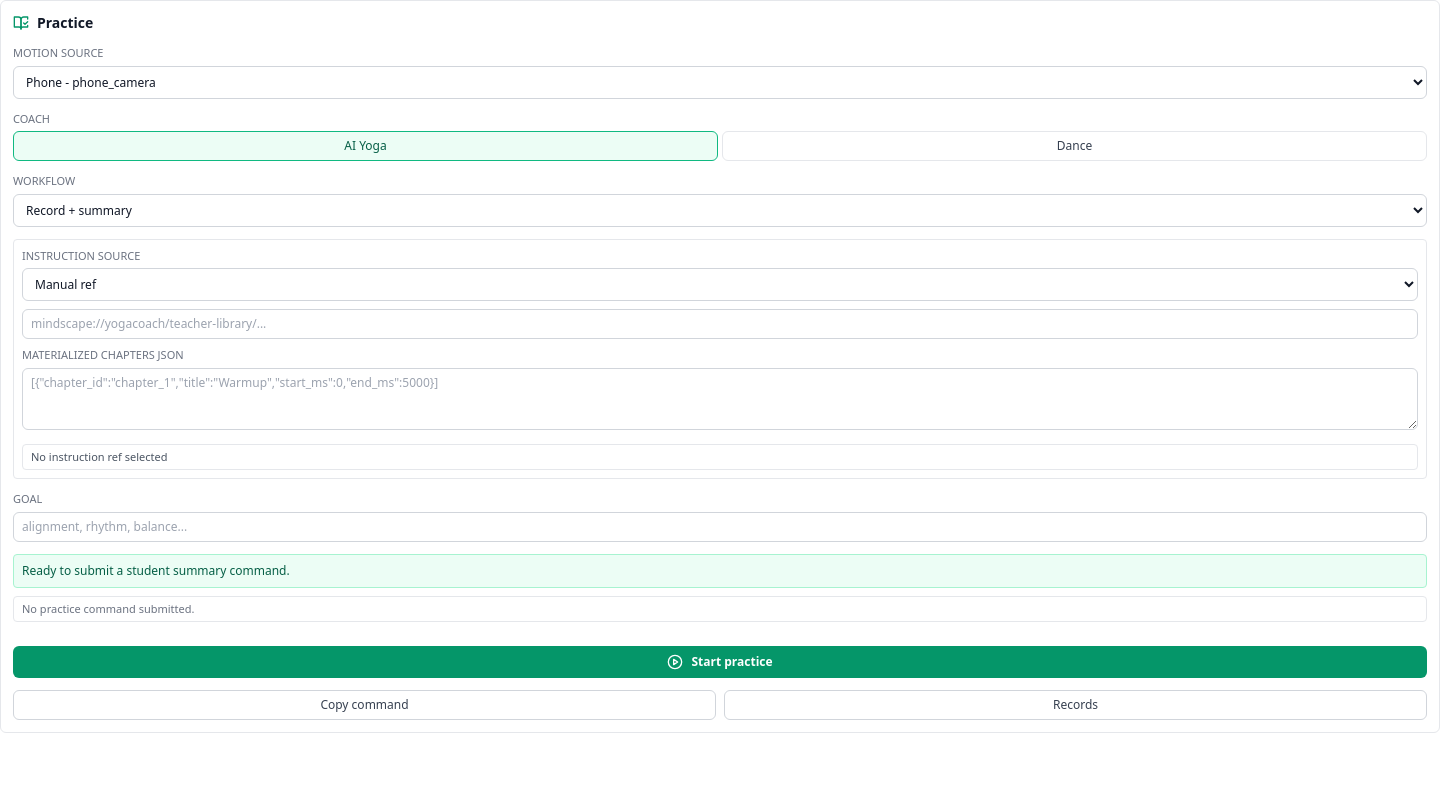
MotionPracticeRailController › blocks non-ready Dance teacher assessment without submitting
The width and height of the screenshot is (1440, 810).
Click the button "Dance" at (1074, 146), box left=722, top=131, right=1427, bottom=161
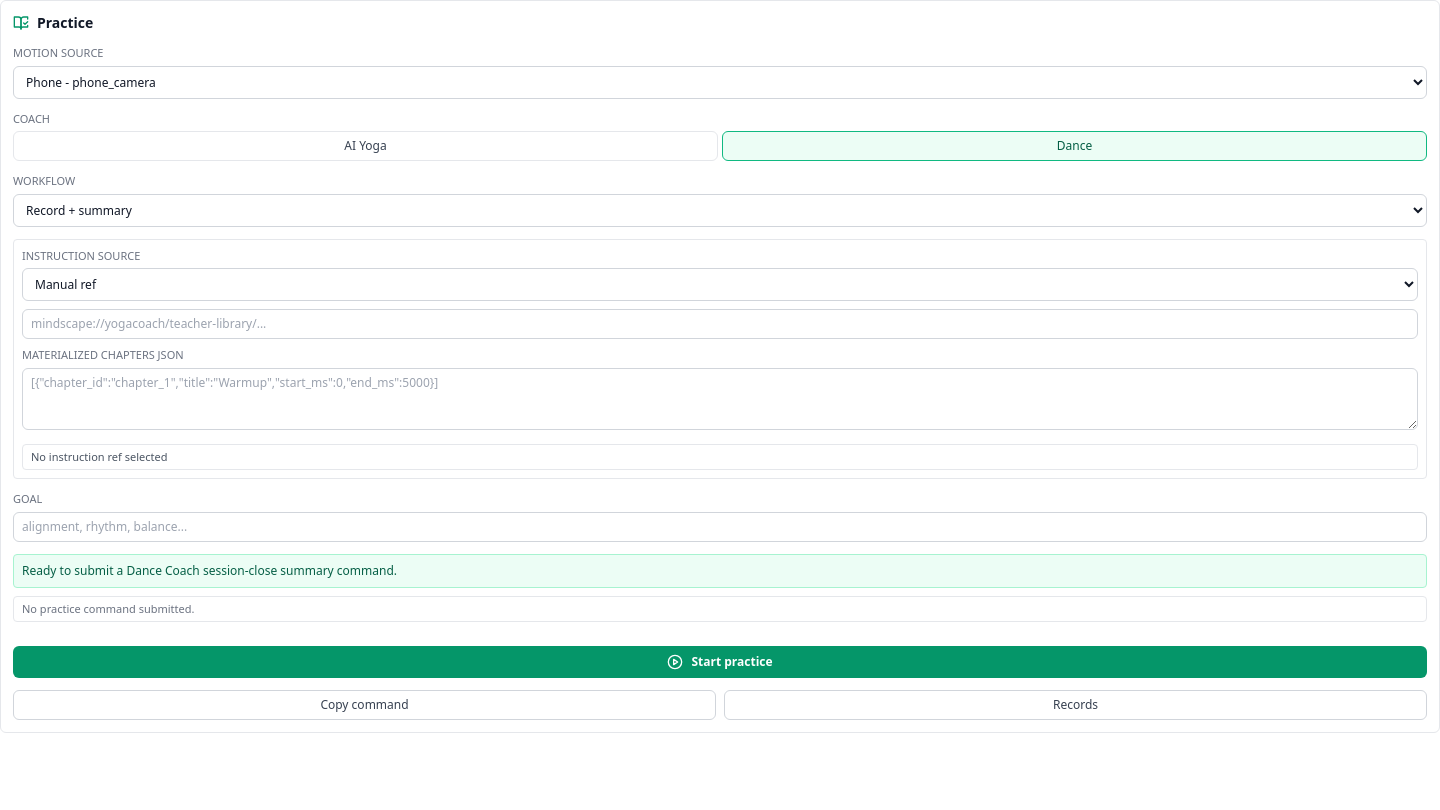
Select "Teacher assessment" in the dropdown with test id "motion-practice-mode-select" at (720, 210), box left=13, top=194, right=1427, bottom=226
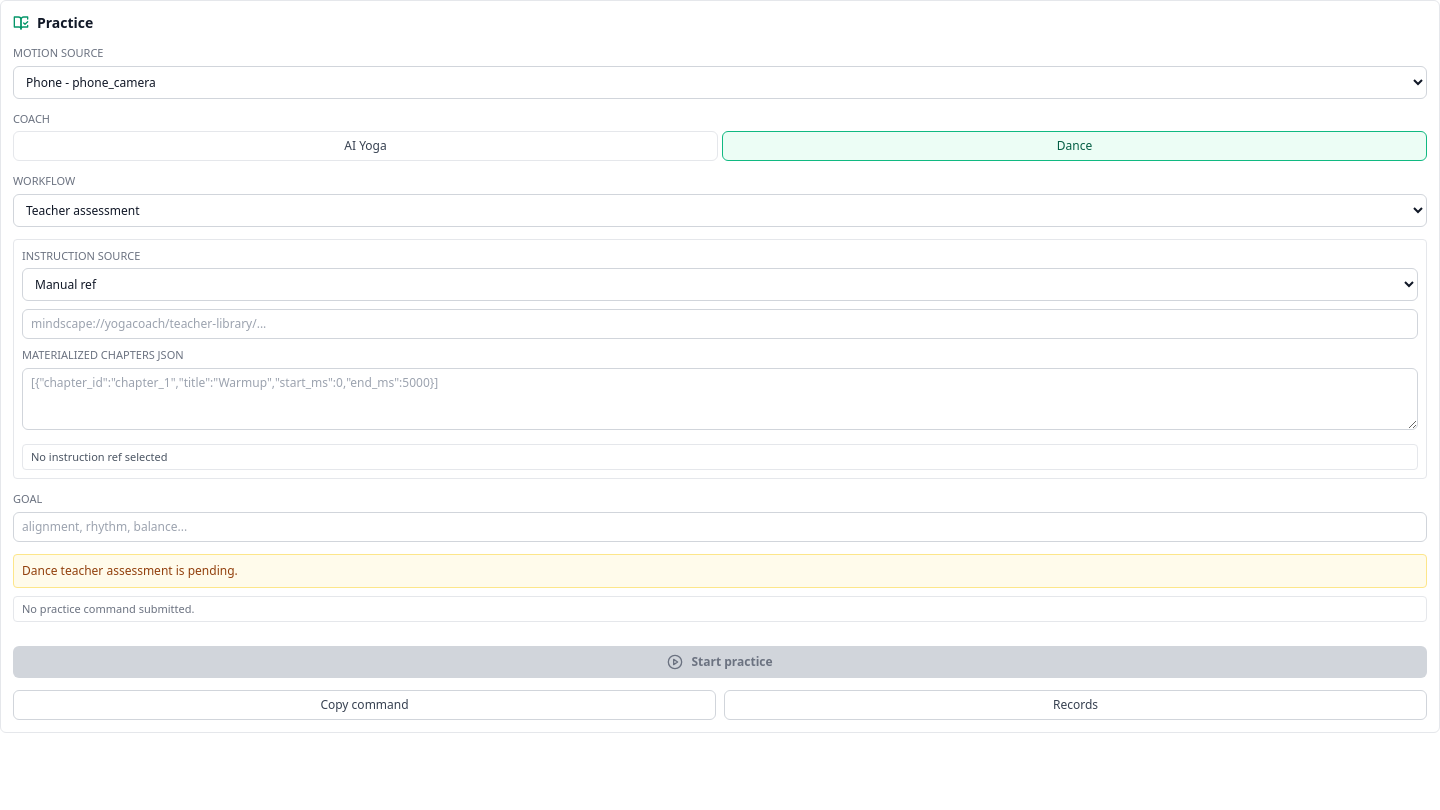
expect the text with test id "motion-practice-readiness" reads "Dance teacher assessment is pending.": met, box left=22, top=562, right=238, bottom=578
expect the button with test id "motion-practice-start-button" is disabled: met, box left=13, top=646, right=1427, bottom=678
